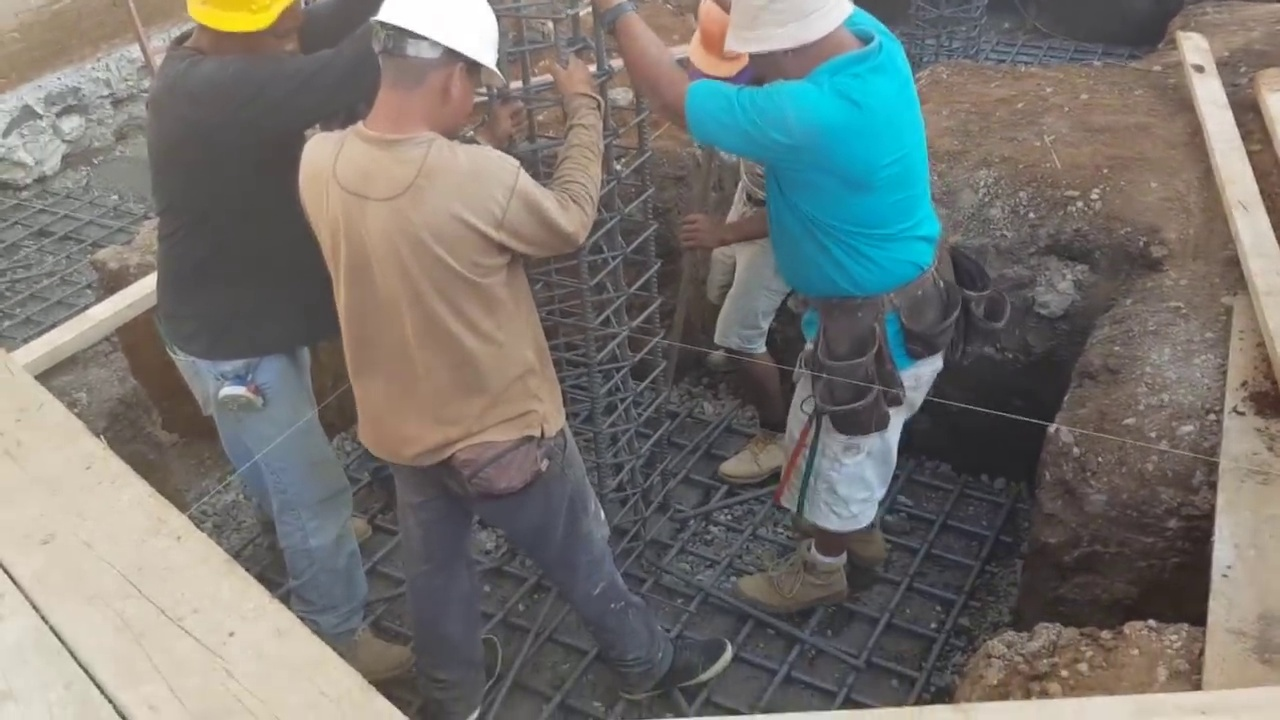helmet: (358, 4, 511, 88), (687, 5, 753, 82)
helmet-off: (699, 4, 878, 93)
helmet-on: (361, 5, 504, 142), (179, 1, 304, 64)
person: (283, 0, 702, 711), (142, 0, 422, 708), (661, 7, 943, 611), (663, 2, 802, 496)
